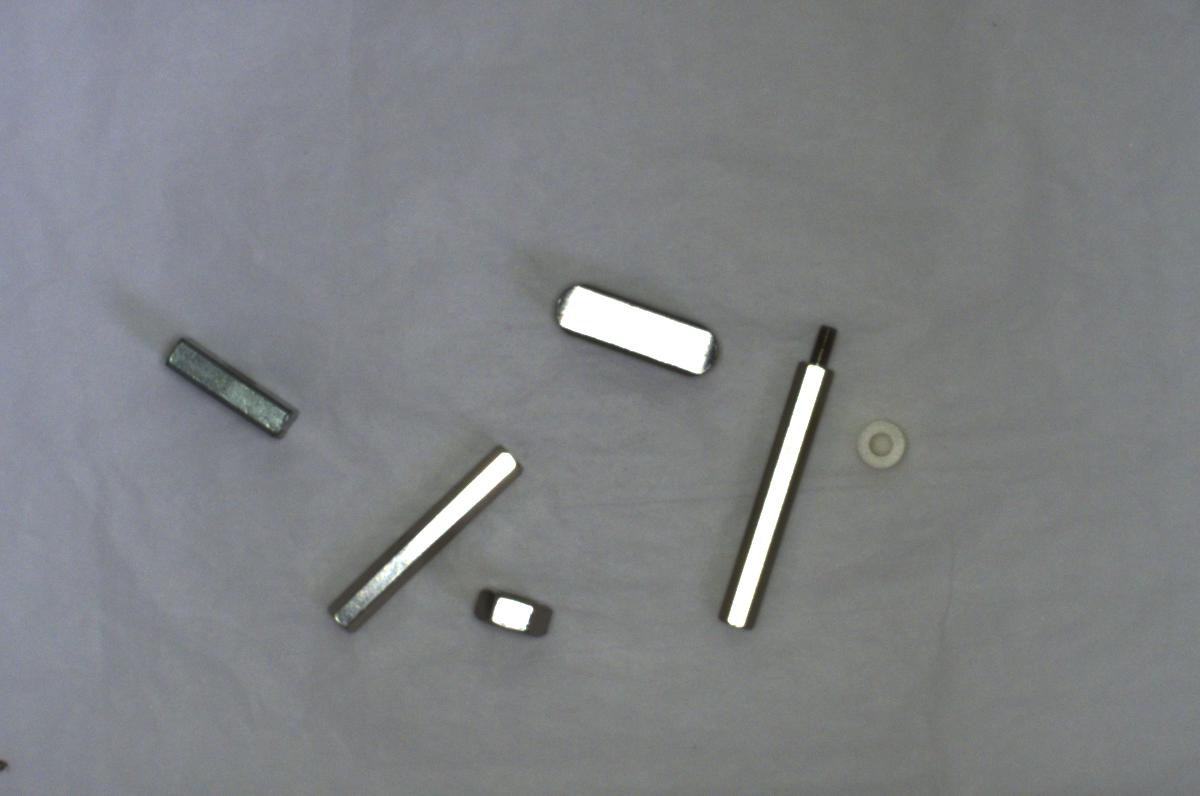Double hexagonal column: (319, 434, 525, 632)
Hexagon nut: (464, 581, 564, 647)
Hexagonal steel column: (713, 315, 840, 630)
Keybar: (550, 278, 726, 385)
Plastic cushion pillar: (846, 415, 905, 473)
Rectangular nut: (162, 338, 297, 440)
